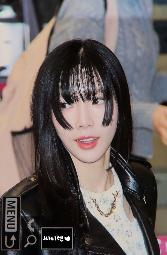face: (56, 79, 114, 163)
